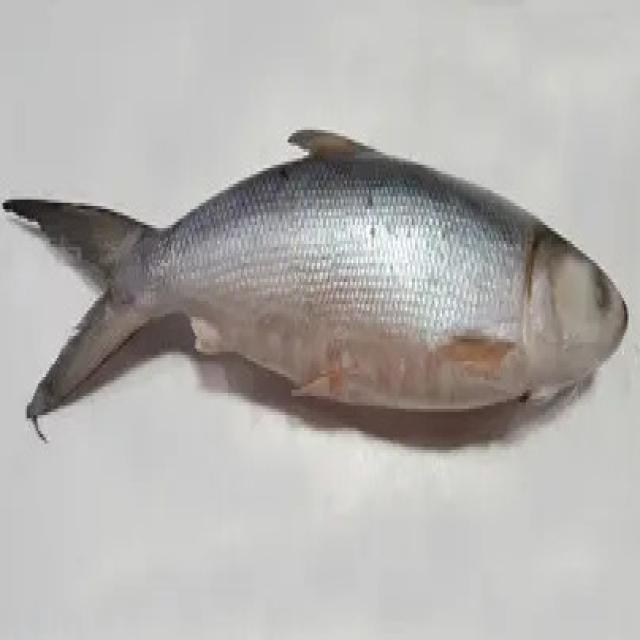Bangus: (5, 108, 640, 490)
